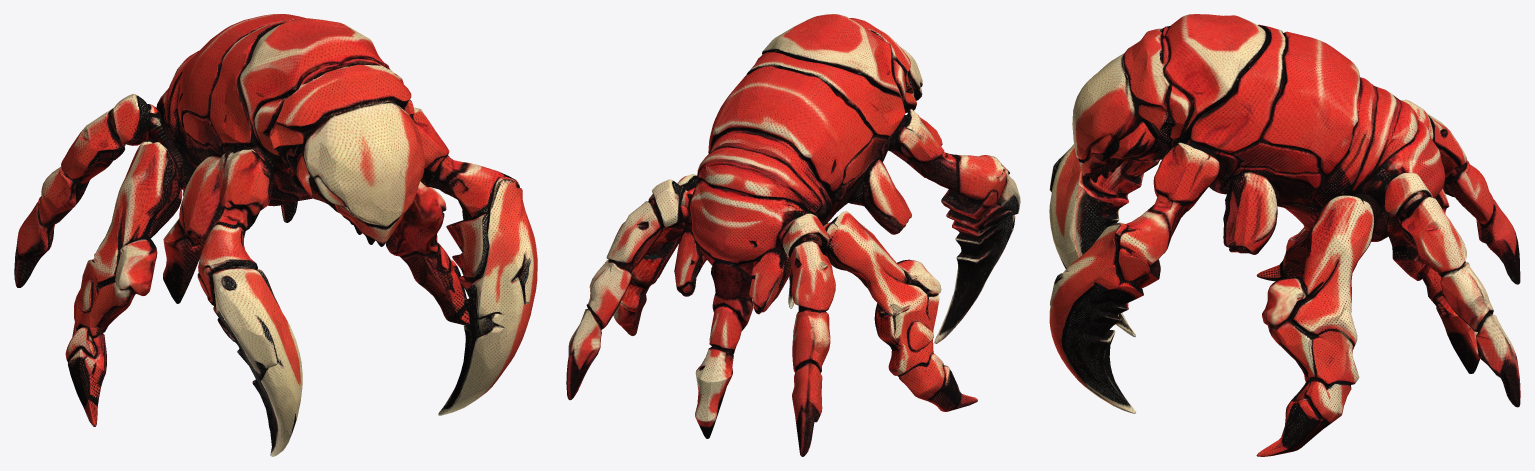
The model's file is inkline_enemy.glb.
3 renders of one model, left to right at view 1: azimuth 30°, elevation 25°; view 2: azimuth 150°, elevation 25°; view 3: azimuth 270°, elevation 25°, orthographic. The views are drawn at different scales.
Size of the model in its own units: 1.73 by 1.58 by 1.9.
Materials: 1 (1 with a texture image).
